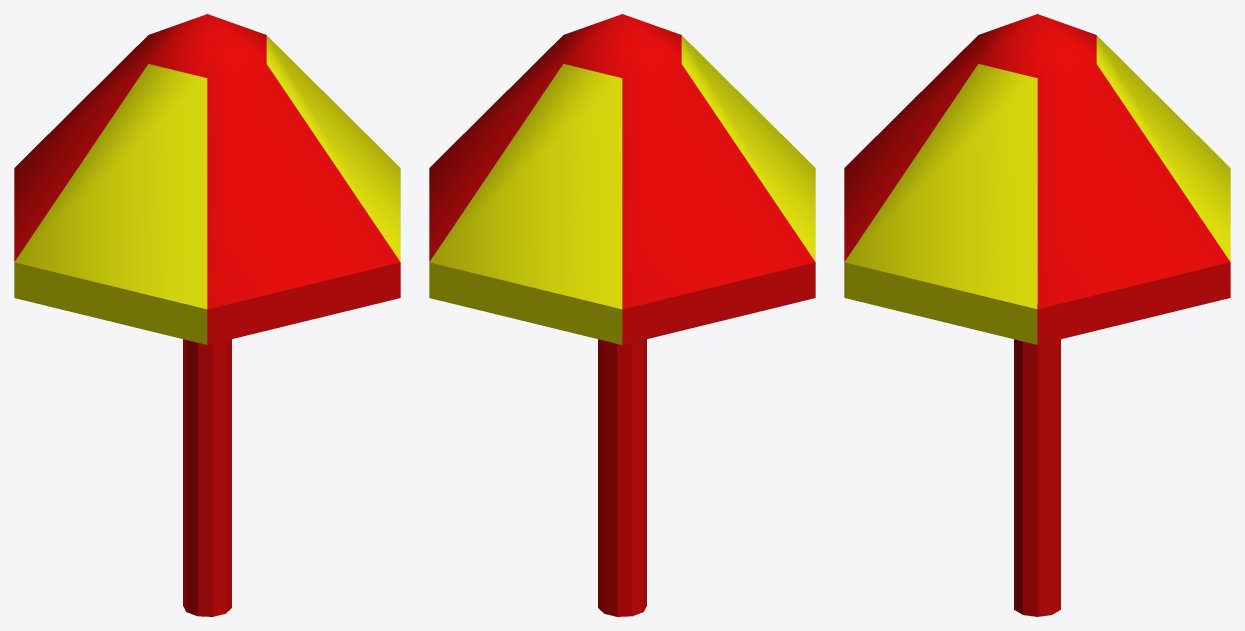
Rendered from umbrella.fbx.
3 renders of one model, left to right at view 1: azimuth 30°, elevation 25°; view 2: azimuth 150°, elevation 25°; view 3: azimuth 270°, elevation 25°, orthographic.
Parts seen in each view (by area): view 1: pCylinder7, pCylinder6; view 2: pCylinder7, pCylinder6; view 3: pCylinder7, pCylinder6.
Part boxes in pixels (x1,y1,x2,y2): pCylinder7: [14, 14, 400, 344]; pCylinder6: [183, 339, 231, 616]; pCylinder7: [429, 14, 815, 344]; pCylinder6: [598, 339, 646, 616]; pCylinder7: [844, 14, 1230, 344]; pCylinder6: [1014, 339, 1060, 616].
Bounding box in the file's own units: 5.49 × 8.05 × 4.75.
